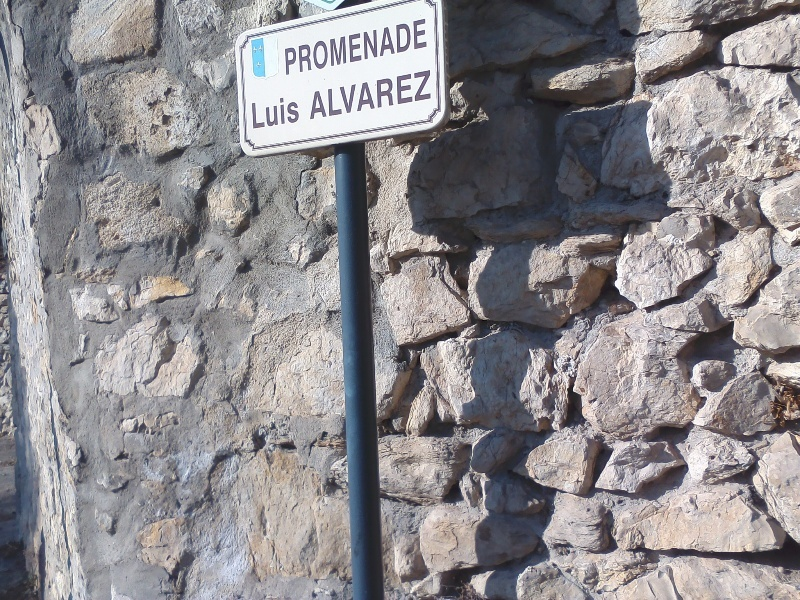text: (289, 16, 304, 76), (305, 16, 320, 76), (321, 16, 336, 76), (337, 16, 352, 76), (353, 16, 368, 76), (369, 16, 384, 76), (385, 16, 400, 76), (401, 16, 416, 76), (417, 69, 433, 121), (321, 69, 336, 121), (337, 69, 352, 121), (353, 69, 368, 121), (369, 69, 384, 121), (385, 69, 400, 121), (401, 69, 416, 121), (417, 16, 429, 76), (257, 94, 272, 132), (273, 94, 288, 132), (289, 94, 301, 132), (313, 69, 320, 121), (283, 16, 288, 76), (250, 94, 256, 132)
